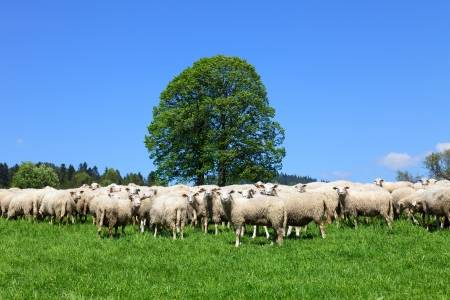sheep: (216, 187, 288, 244), (333, 183, 393, 227), (140, 193, 190, 238), (94, 193, 143, 234), (409, 184, 450, 224), (39, 187, 83, 223), (1, 187, 40, 225), (190, 183, 219, 222)
